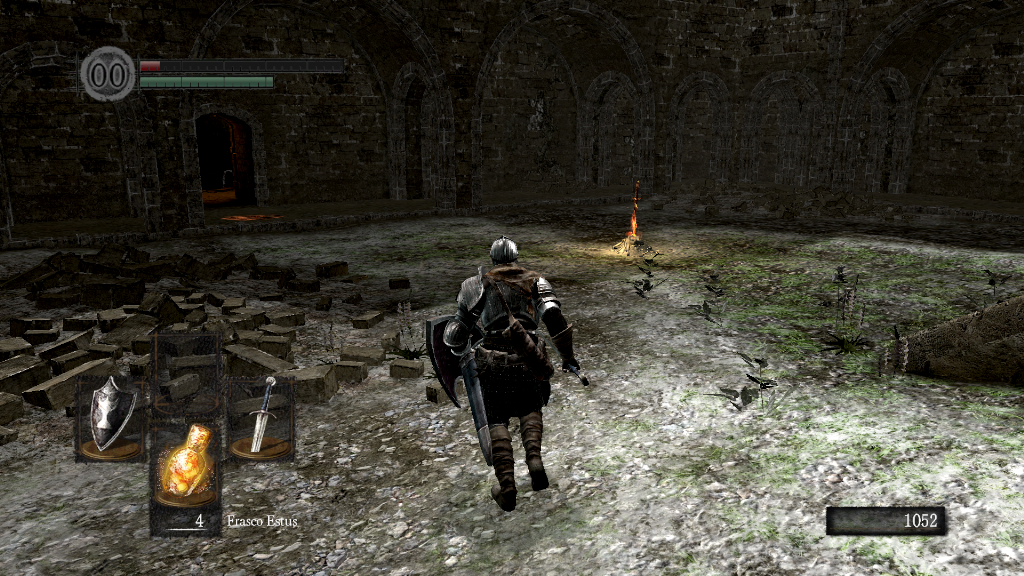bonfire: (608, 176, 659, 259)
health: (138, 58, 343, 71)
humanity: (80, 45, 136, 102)
player: (425, 233, 596, 514)
souls: (825, 506, 945, 536)
stamina: (138, 74, 274, 88)
